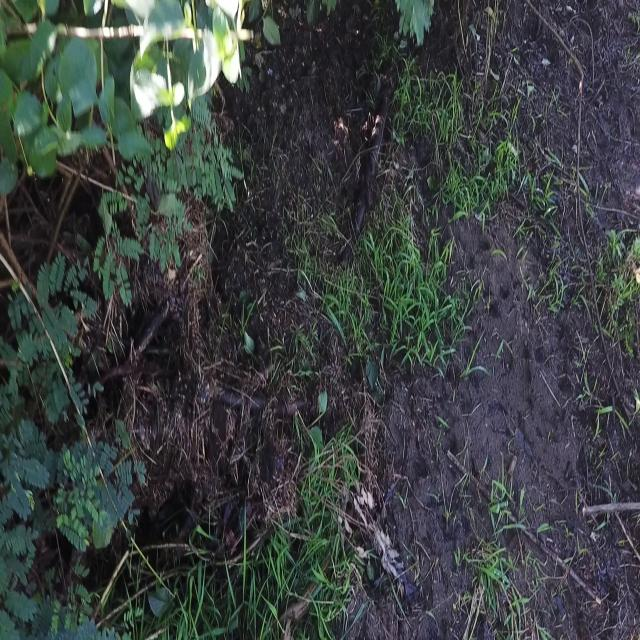Mysore-Thorn-Weed: (85, 92, 242, 297), (0, 412, 141, 640), (3, 237, 91, 405)
